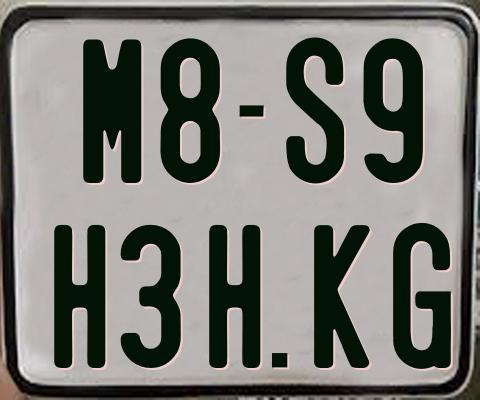3: (118, 225, 180, 370)
8: (160, 35, 224, 185)
9: (362, 38, 425, 186)
G: (393, 220, 451, 369)
H: (53, 225, 107, 372), (206, 224, 258, 371)
K: (312, 225, 370, 373)
M: (83, 39, 143, 188)
S: (284, 36, 348, 186)
